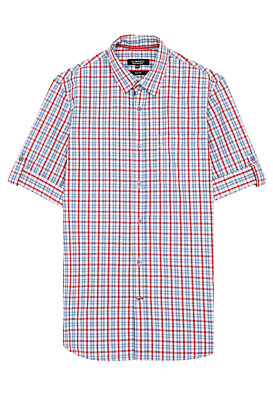squared: (6, 30, 269, 364)
